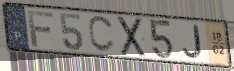5: (147, 17, 175, 60), (58, 11, 85, 52)
C: (87, 15, 116, 54)
F: (26, 9, 56, 49)
J: (181, 24, 204, 60)
X: (117, 15, 148, 59)
